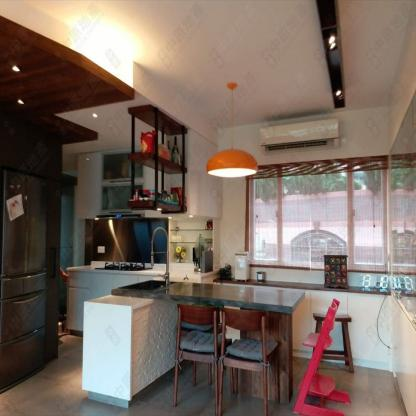Exhaust Hood: (95, 212, 144, 217)
Faucet: (149, 225, 172, 286)
Fridge: (2, 168, 48, 392)
Sink: (120, 280, 175, 289)
Stove: (94, 262, 153, 271)
